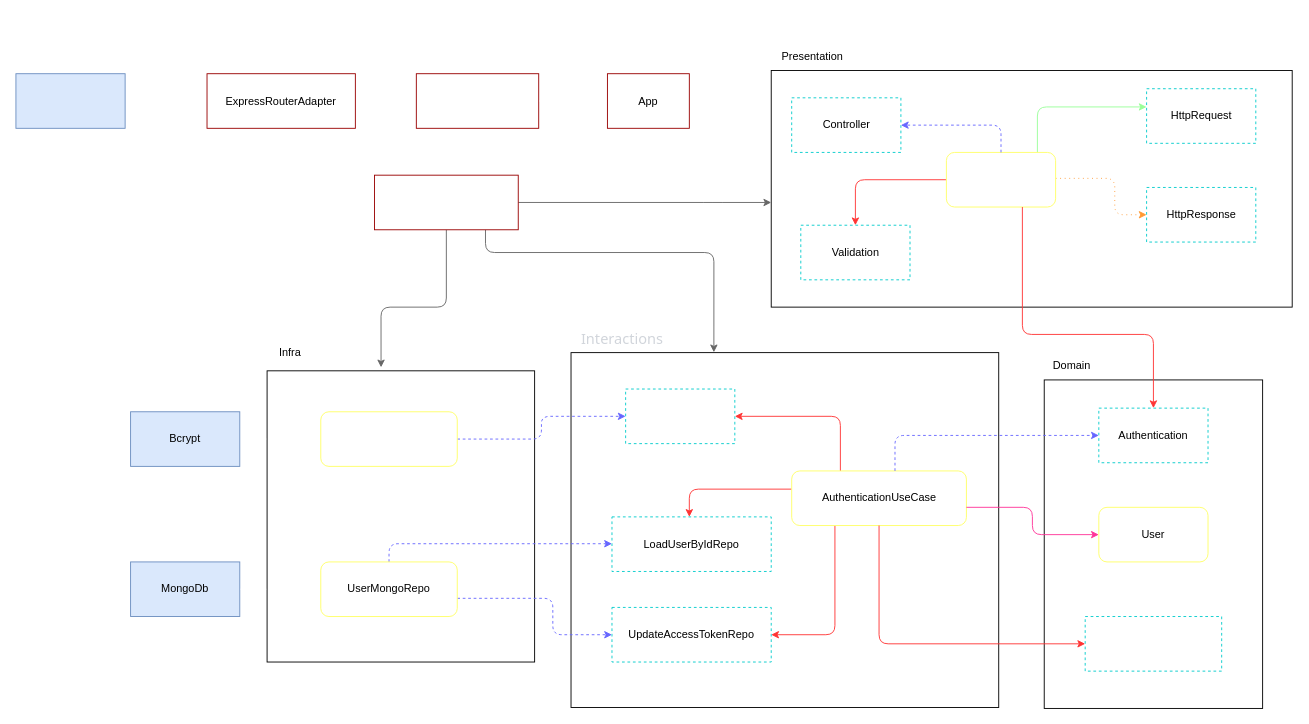
This 1309x724 diagram has some shape labels left out. Here are the shapes that lost their labels. From the top down, the box of each, then its label:
(15, 73, 125, 128): Express
(415, 73, 539, 128): LoginRouter
(945, 152, 1056, 207): LoginController
(374, 174, 518, 230): LoginFactory
(625, 388, 735, 444): HashComparer
(320, 411, 457, 466): BcryptAdapter
(1084, 616, 1222, 671): AccessTokenBuilder
